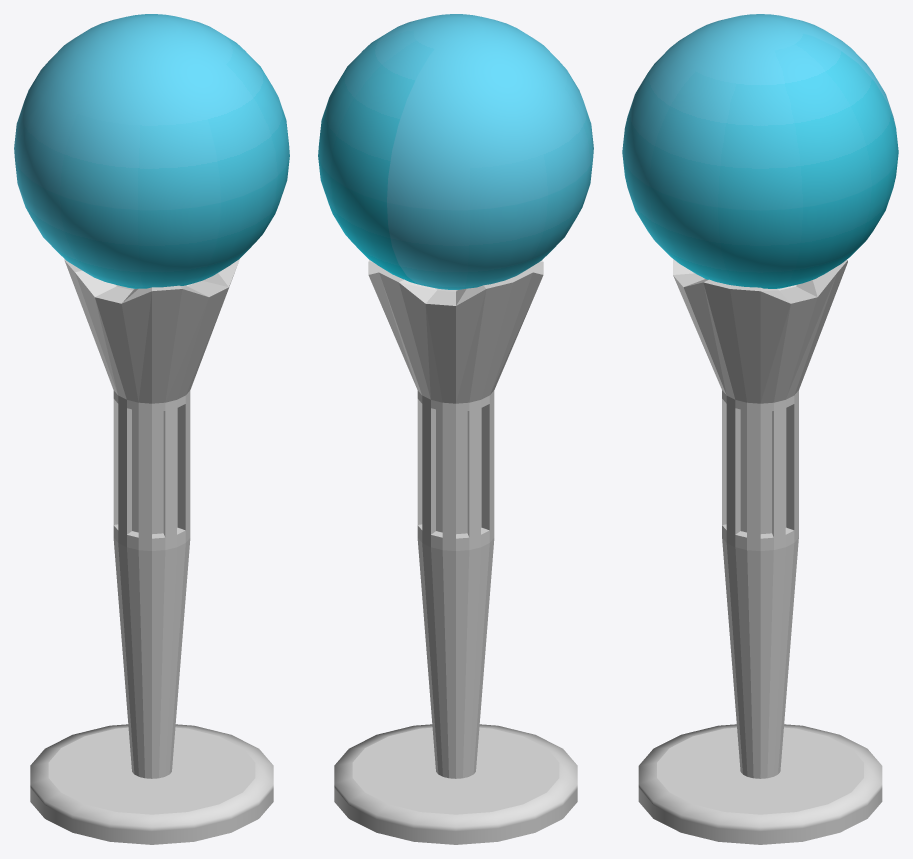
Rendered from Lamp_Off.fbx.
The picture shows the model from 3 angles, left to right: view 1: azimuth 30°, elevation 25°; view 2: azimuth 150°, elevation 25°; view 3: azimuth 270°, elevation 25°; orthographic projection.
Parts seen in each view (by area): view 1: Cylinder001, Sphere001; view 2: Cylinder001, Sphere001; view 3: Cylinder001, Sphere001.
Boxes of the visible parts, <box> form: Cylinder001: <box>30,259,273,844</box>; Sphere001: <box>14,14,289,288</box>; Cylinder001: <box>334,260,577,844</box>; Sphere001: <box>318,14,593,289</box>; Cylinder001: <box>638,259,882,844</box>; Sphere001: <box>622,14,898,288</box>.
Size of the model in its own units: 6 by 6 by 18.34.
2 materials, 2 textured.
